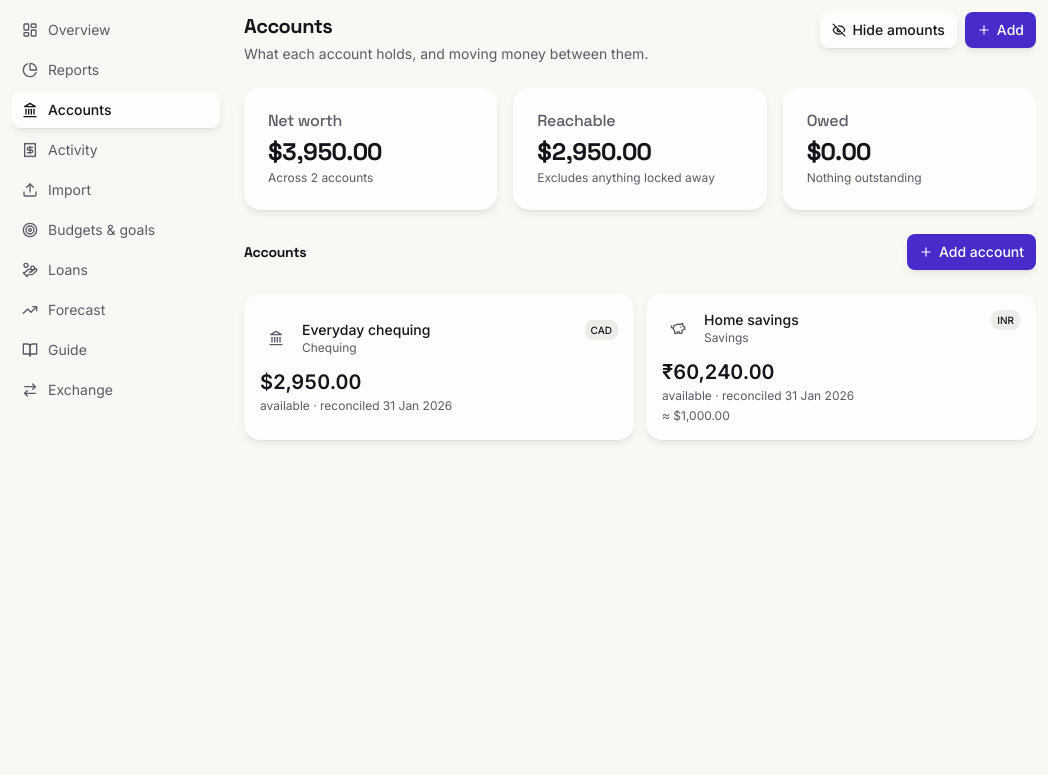
Test: the finance workspace › renders Forecast with no placeholder
Click the button "Forecast" at (116, 310), box [12, 292, 220, 328]
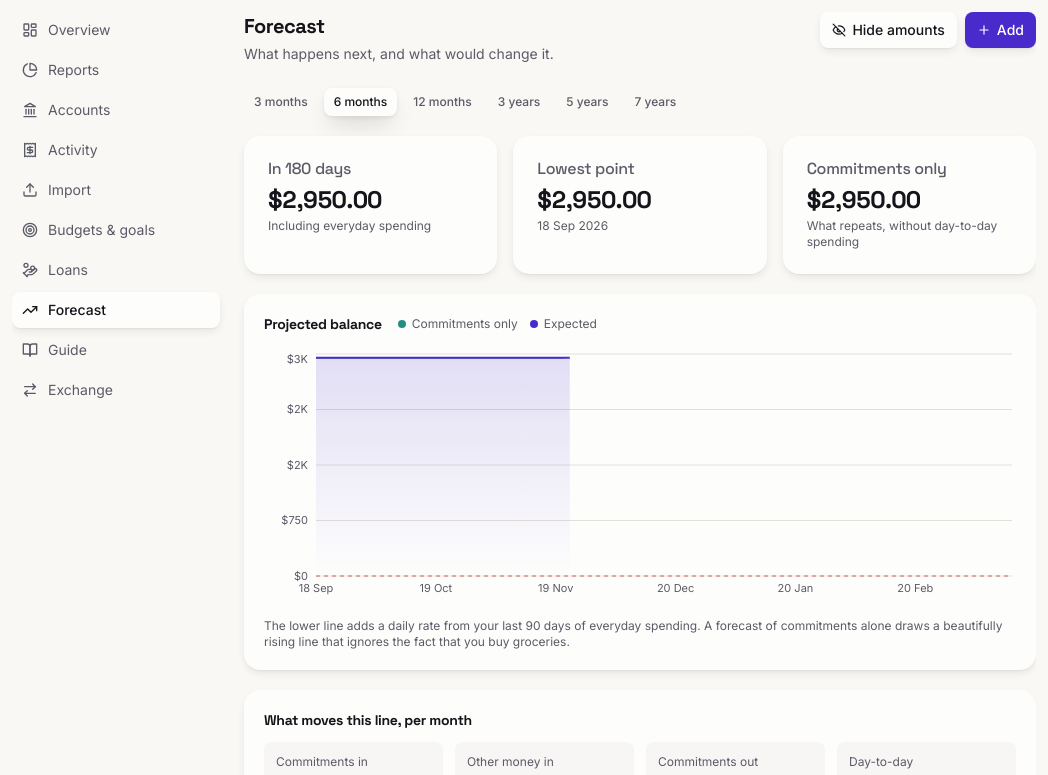
Check: the heading "Forecast" is shown, box [244, 13, 324, 39]
